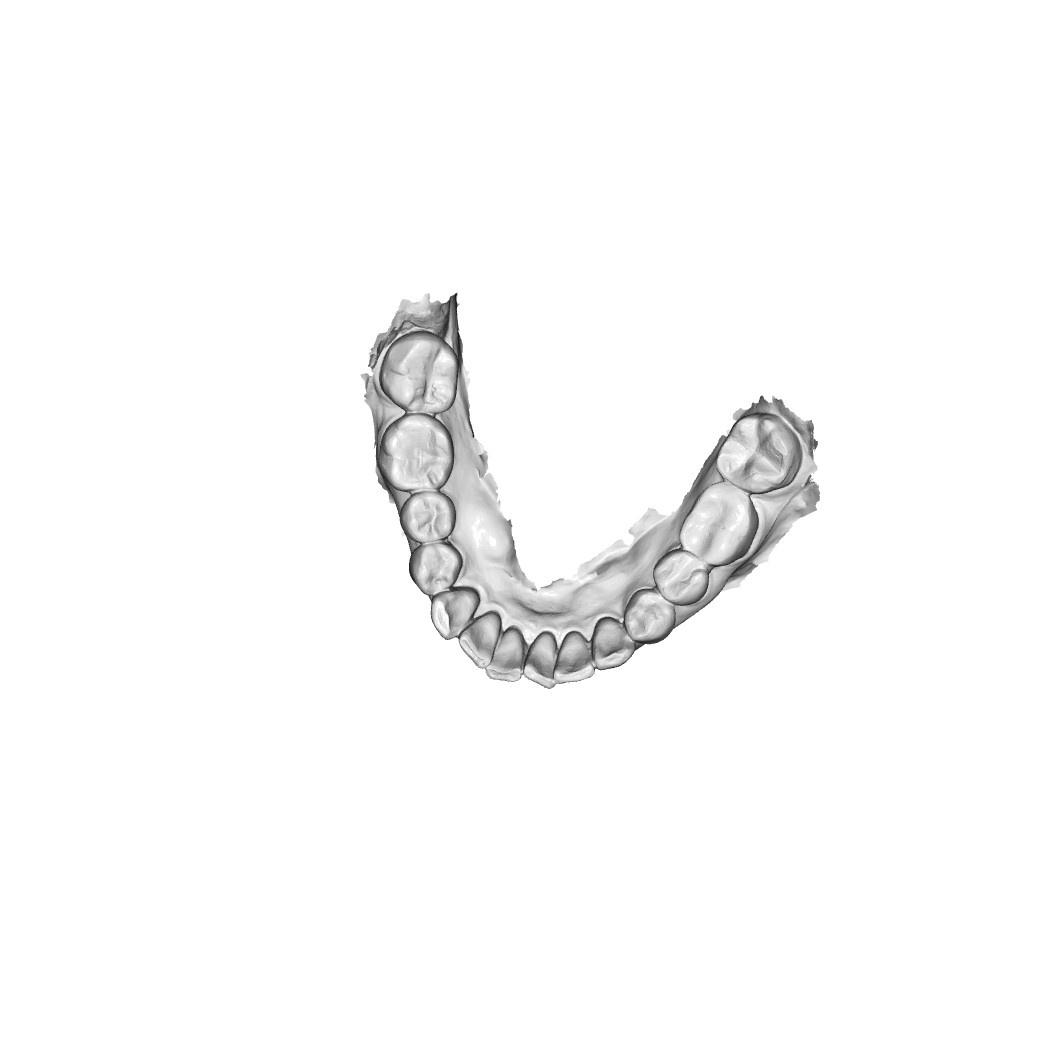canine: (428, 588, 479, 640), (590, 614, 635, 671)
incisor: (454, 606, 501, 668), (550, 630, 595, 687), (521, 633, 560, 690), (485, 632, 525, 683)
molar: (714, 411, 805, 495), (377, 328, 464, 414), (678, 481, 760, 566), (375, 413, 454, 493)
premolar: (653, 549, 711, 607), (624, 584, 677, 645), (405, 542, 463, 597), (398, 491, 458, 541)
